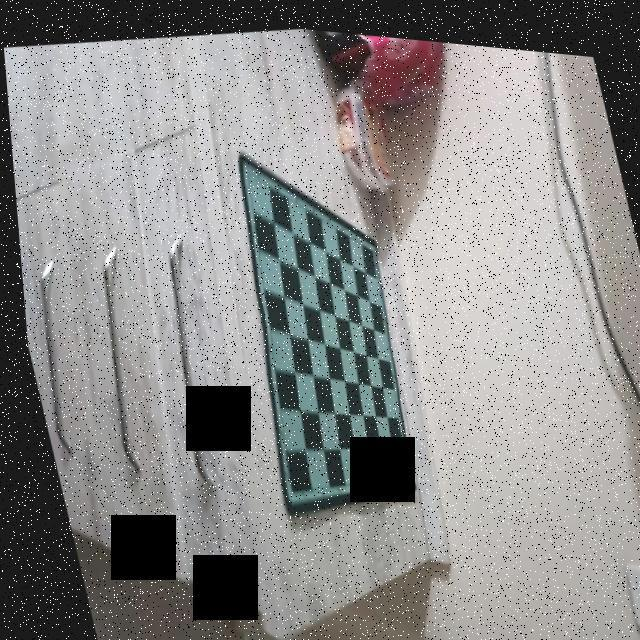chess-table-corners: (388, 450, 414, 485), (274, 469, 300, 503), (356, 230, 381, 260), (235, 154, 257, 180)
